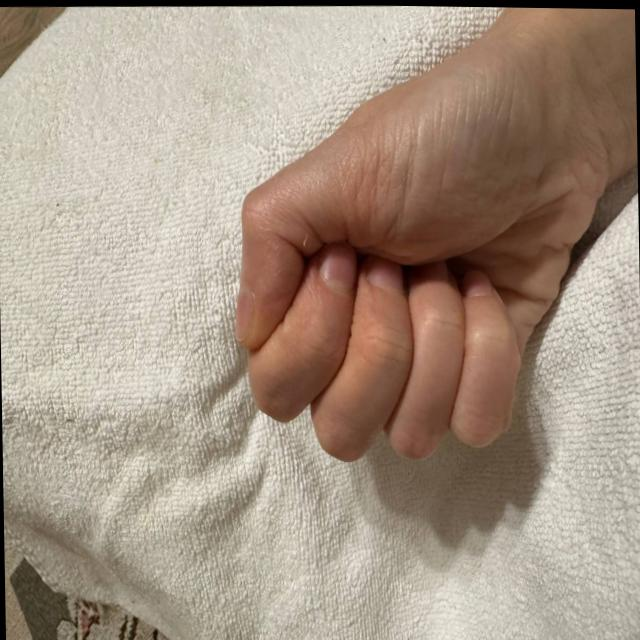a: (228, 34, 562, 502)
